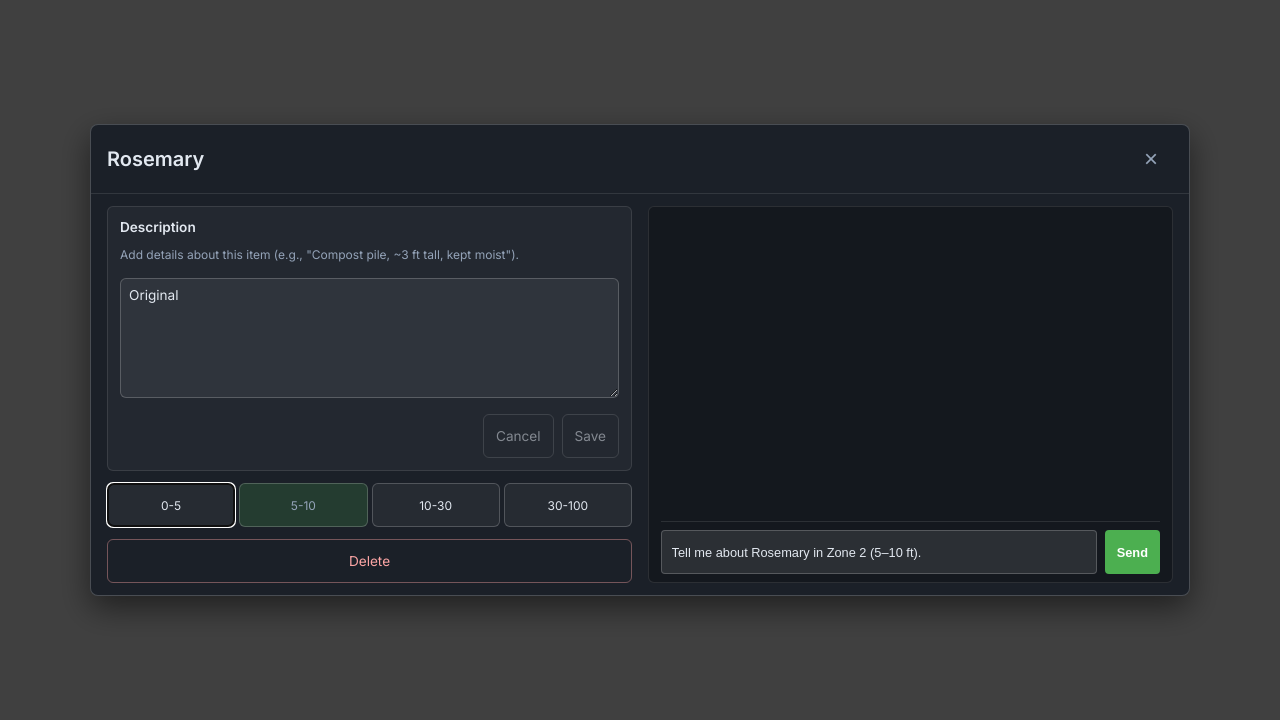
PlantLightboxCustom body › Cancel reverts the draft to the original notes
The width and height of the screenshot is (1280, 720).
Replace the text in the text box labelled "Description" with "Dirty edit" at (370,338), box x1=120 y1=278 x2=619 y2=398
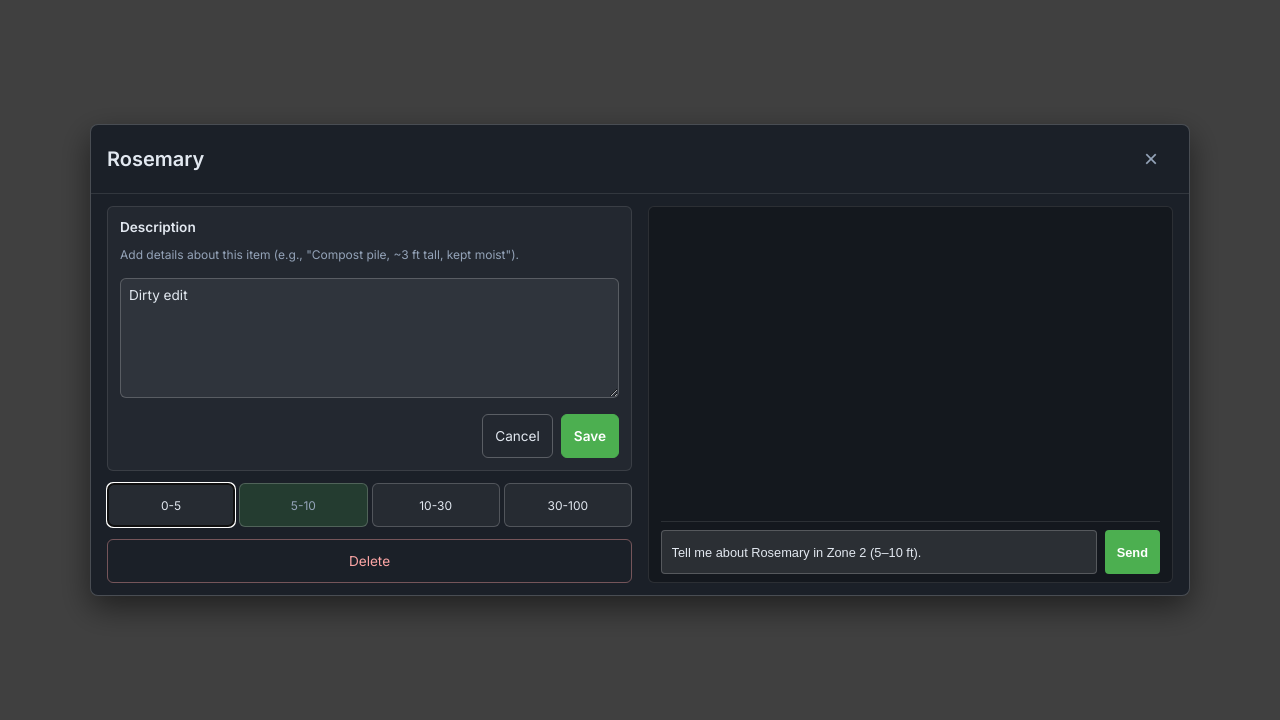
Click the button "Cancel" at (518,436), box x1=482 y1=414 x2=553 y2=458
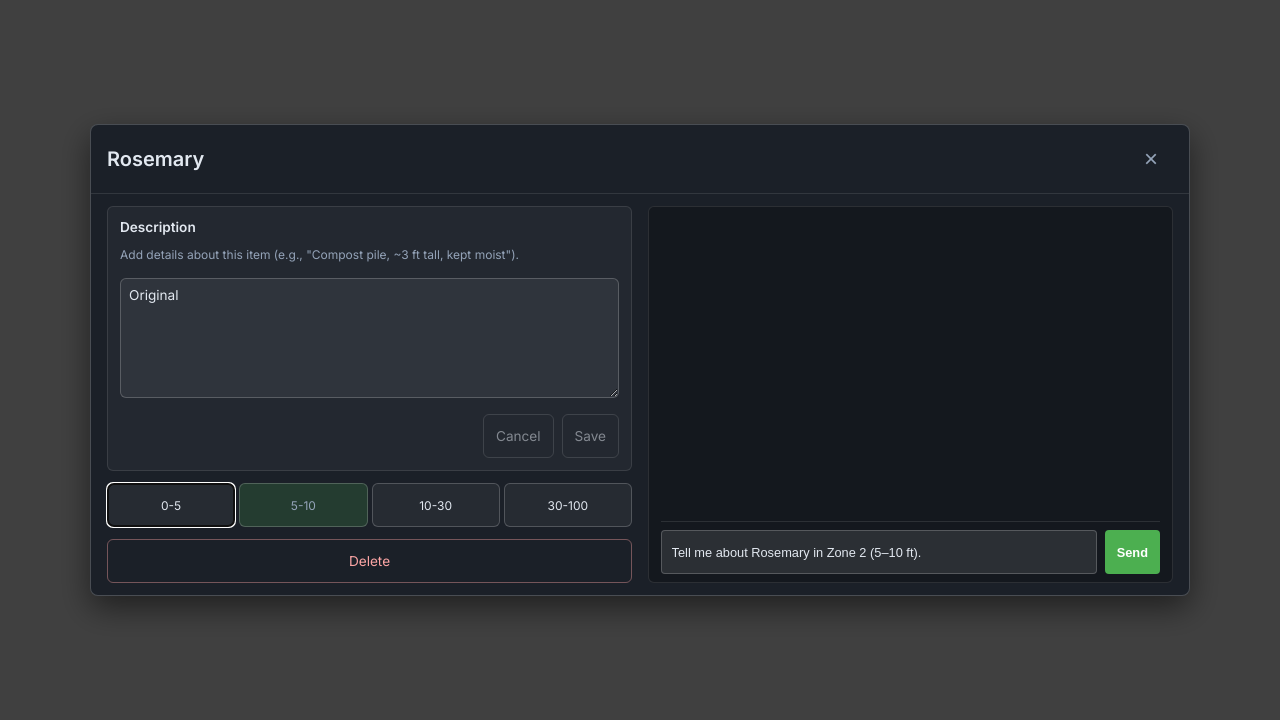
Result: the text box labelled "Description" holds "Original" at x1=120 y1=278 x2=619 y2=398
